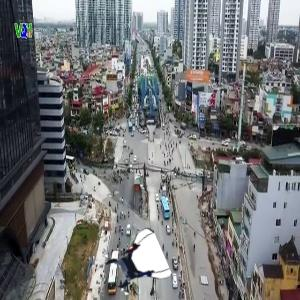drone: (106, 235, 167, 296)
